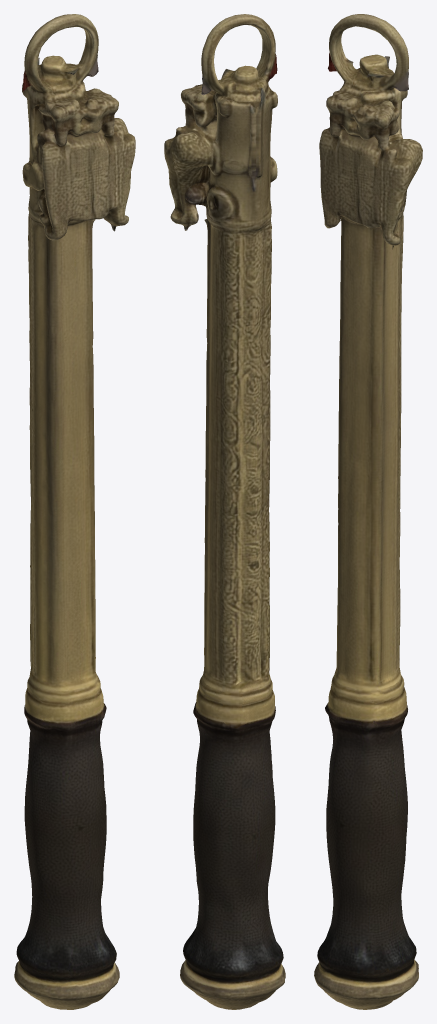
Rendered from prop_winch_gold_nightstick.glb.
The picture shows the model from 3 angles, left to right: view 1: azimuth 30°, elevation 25°; view 2: azimuth 210°, elevation 25°; view 3: azimuth 330°, elevation 25°; orthographic projection.
Size of the model in its own units: 0.0487 by 0.45 by 0.0441.
Materials: 1 (1 with a texture image).
